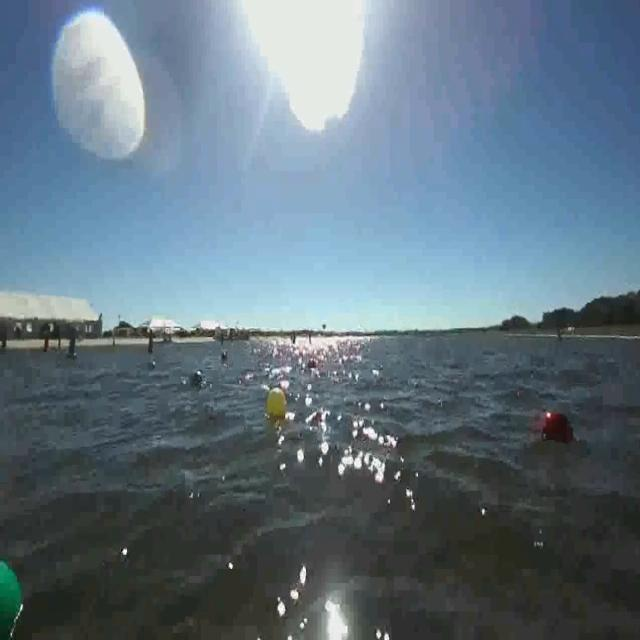green-buoy: (0, 555, 24, 638)
red-buoy: (534, 408, 572, 446)
yellow-buoy: (268, 389, 288, 420)
